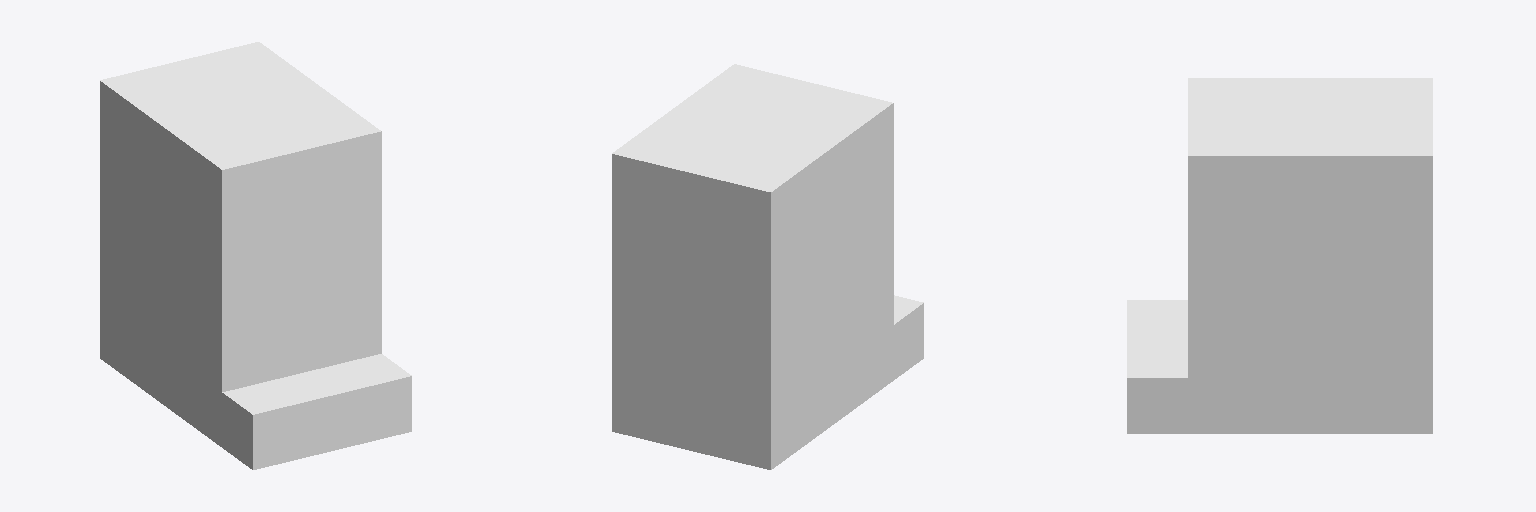
The model's file is gladiator-7.obj.
3 renders of one model, left to right at view 1: azimuth 30°, elevation 25°; view 2: azimuth 150°, elevation 25°; view 3: azimuth 270°, elevation 25°, orthographic.
Parts seen in each view (by area): view 1: object 1; view 2: object 1; view 3: object 1.
Boxes of the visible parts, x1=… form: object 1: x1=100, y1=42, x2=411, y2=469; object 1: x1=612, y1=64, x2=923, y2=469; object 1: x1=1127, y1=78, x2=1432, y2=433.
Bounding box in the file's own units: 0.3 × 0.5 × 0.5.